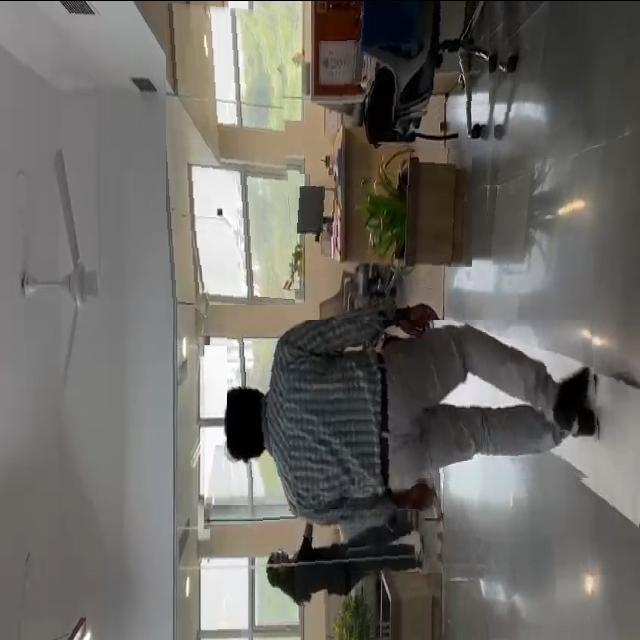floor: (479, 0, 640, 314), (441, 477, 640, 640)
furniture: (334, 0, 489, 117), (355, 142, 472, 266), (328, 572, 443, 637), (316, 268, 385, 328), (286, 172, 338, 240)
moving_object: (227, 318, 601, 484), (257, 508, 428, 624)
wall: (166, 0, 296, 304)
